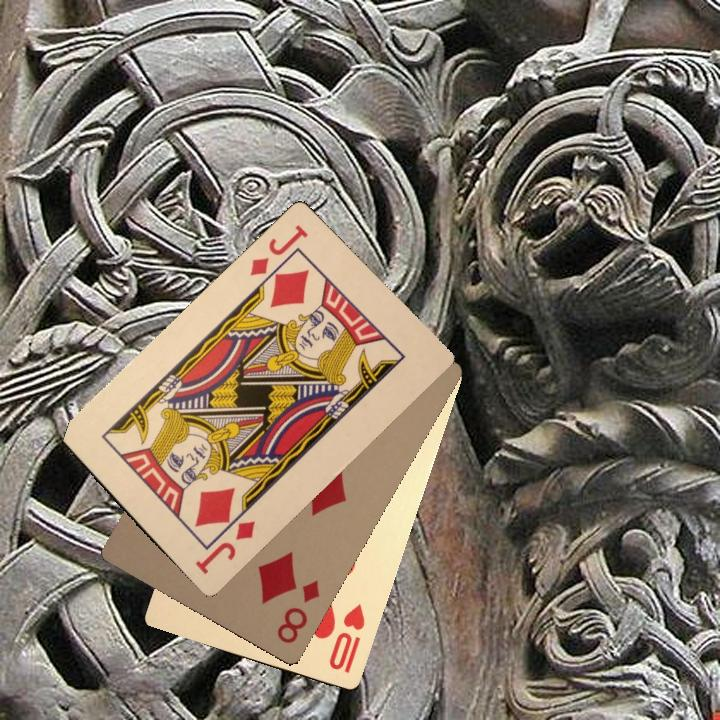10h: (325, 599, 368, 676)
8d: (272, 576, 323, 647)
Jd: (191, 516, 258, 577), (246, 221, 311, 279)
